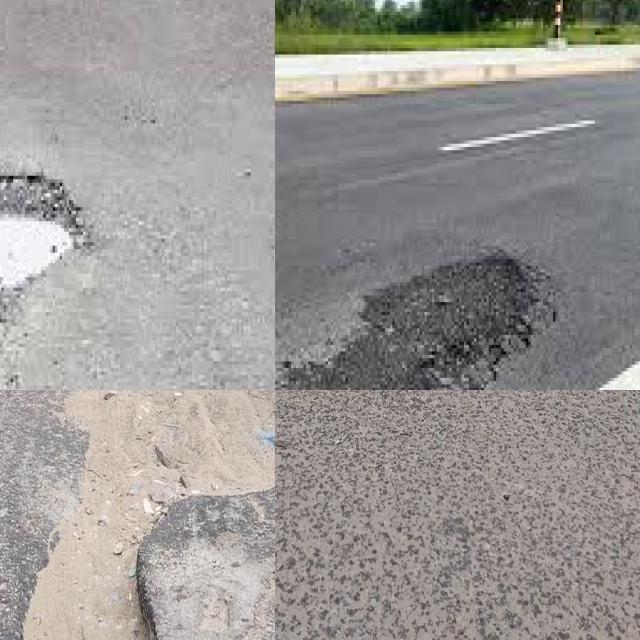Pothole: (24, 390, 275, 640), (275, 256, 536, 390), (0, 175, 85, 298)
